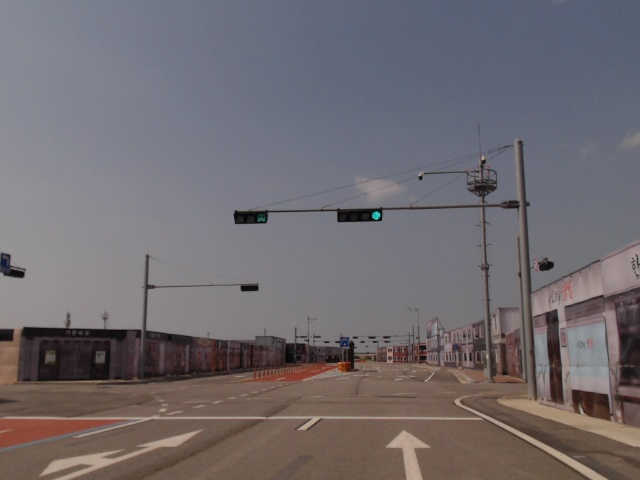straight_green_4: (340, 209, 384, 221)
